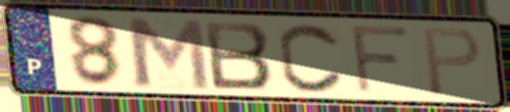8: (65, 14, 126, 89)
B: (201, 18, 275, 91)
C: (276, 20, 347, 95)
F: (347, 22, 413, 96)
M: (122, 15, 214, 93)
P: (420, 26, 484, 99)
